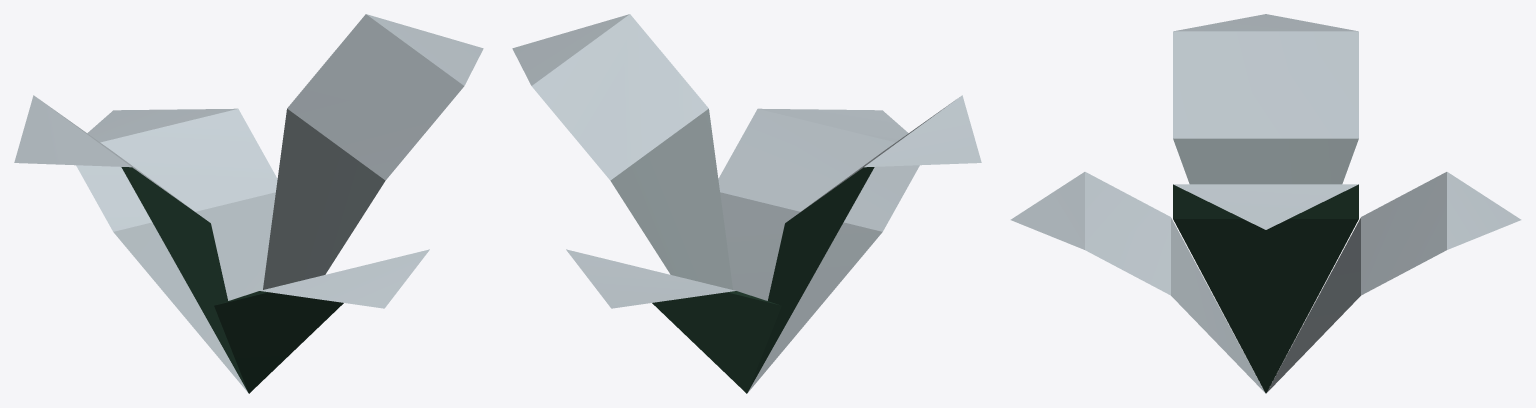
File: plant_bush.glb
3 views of the same model, side by side, from view 1: azimuth 30°, elevation 25°; view 2: azimuth 150°, elevation 25°; view 3: azimuth 270°, elevation 25° (orthographic). The views are drawn at different scales.
Parts seen in each view (by area): view 1: plant_bush; view 2: plant_bush; view 3: plant_bush.
Part boxes in pixels (box(x1,y1,x2,y2)): plant_bush: box(14, 14, 483, 393); plant_bush: box(512, 14, 981, 393); plant_bush: box(1010, 14, 1521, 393).
Size of the model in its own units: 0.396 by 0.2444 by 0.396.
